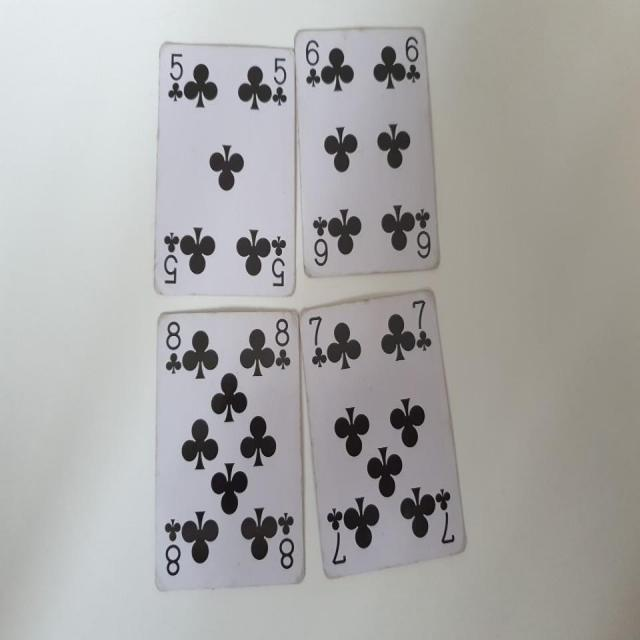5 Trefoils: (152, 36, 296, 297)
6 Trefoils: (294, 24, 441, 279)
7 Trefoils: (297, 286, 471, 580)
8 Trefoils: (155, 308, 305, 592)
